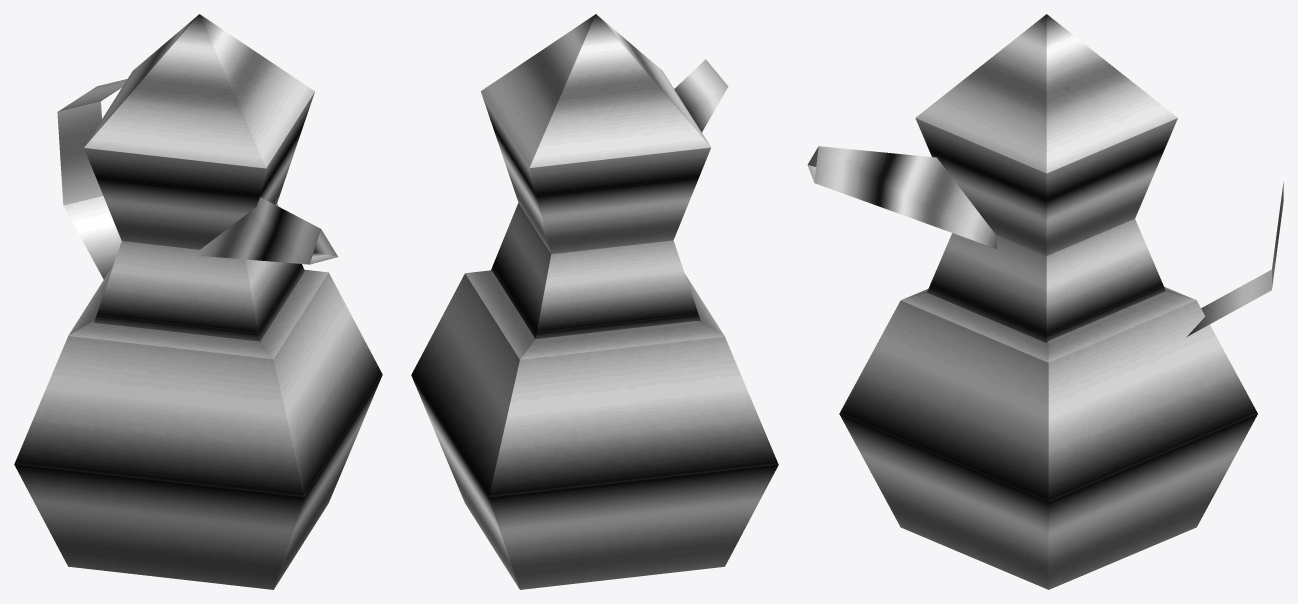
The model's file is Teekanne_2292.glb.
3 views of the same model, side by side, from view 1: azimuth 30°, elevation 25°; view 2: azimuth 150°, elevation 25°; view 3: azimuth 270°, elevation 25° (orthographic).
Visible parts, largest first — view 1: pSphereShape1, pSphereShape2, pPlaneShape14, pCylinderShape5; view 2: pSphereShape1, pSphereShape2, pCylinderShape5; view 3: pSphereShape1, pSphereShape2, pCylinderShape5, pPlaneShape14.
Boxes of the visible parts, left/top/right/bottom form: pSphereShape1: left=14, top=264, right=382, bottom=589; pSphereShape2: left=84, top=14, right=314, bottom=341; pPlaneShape14: left=57, top=79, right=127, bottom=279; pCylinderShape5: left=196, top=197, right=337, bottom=264; pSphereShape1: left=411, top=270, right=778, bottom=589; pSphereShape2: left=481, top=14, right=711, bottom=338; pCylinderShape5: left=674, top=59, right=728, bottom=132; pSphereShape1: left=839, top=287, right=1257, bottom=589; pSphereShape2: left=915, top=14, right=1177, bottom=342; pCylinderShape5: left=807, top=146, right=996, bottom=248; pPlaneShape14: left=1187, top=182, right=1283, bottom=336.
Size of the model in its own units: 0.0918 by 0.1241 by 0.1043.
4 materials, 4 textured.
